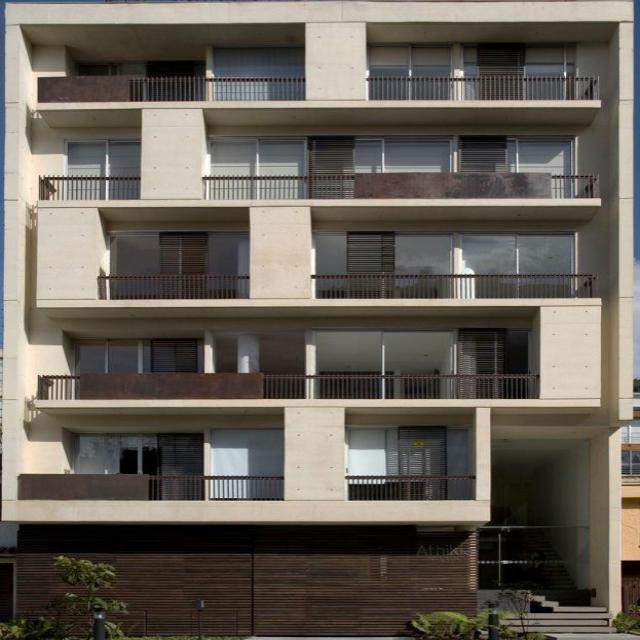Railing: (36, 374, 536, 398), (200, 174, 598, 197), (16, 472, 282, 499), (310, 273, 589, 297), (38, 76, 303, 100), (366, 76, 596, 100), (98, 276, 248, 298), (342, 475, 472, 499), (36, 176, 138, 198)
plant: (0, 554, 128, 639)
wall: (4, 0, 636, 636)
windows: (391, 234, 575, 273), (314, 330, 455, 374), (202, 137, 304, 176), (73, 432, 157, 471), (351, 138, 446, 172), (209, 429, 284, 472), (66, 141, 140, 176), (343, 428, 399, 474), (68, 340, 146, 373), (215, 48, 306, 76), (514, 136, 576, 173), (372, 48, 448, 75), (107, 235, 159, 274), (206, 234, 246, 276), (312, 231, 345, 274), (522, 47, 571, 75), (442, 430, 466, 472)
